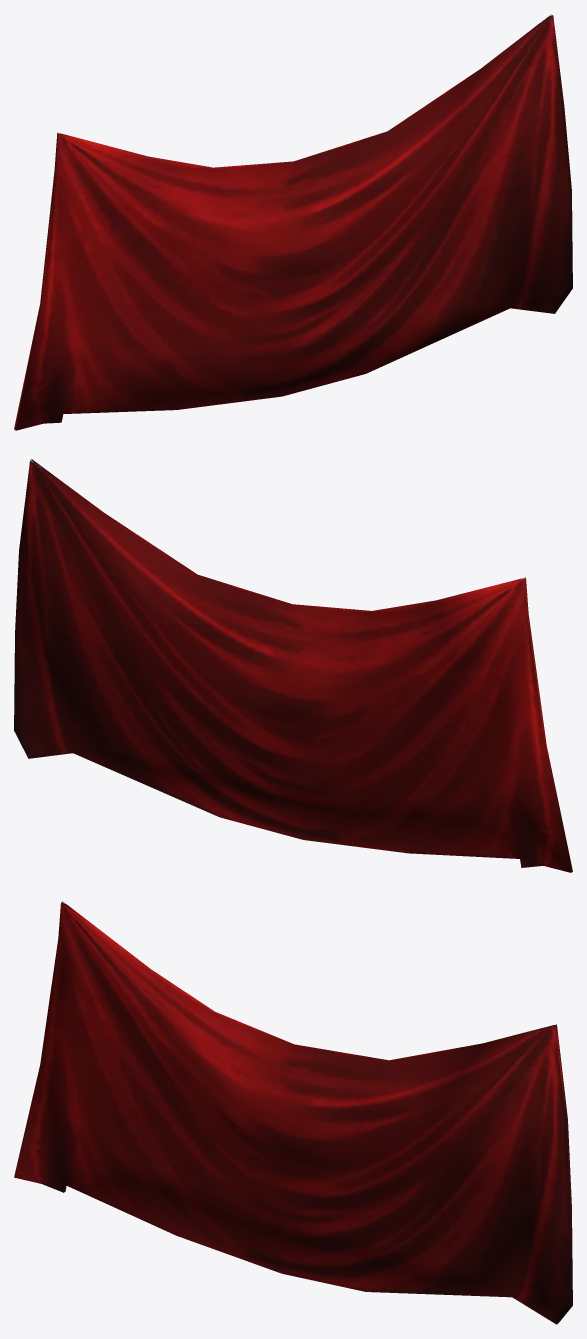
Rendered from GS_VOB_LITTLECURTAIN_02.glb.
3 views of the same model, one above another, from view 1: azimuth 30°, elevation 25°; view 2: azimuth 150°, elevation 25°; view 3: azimuth 330°, elevation 25° (orthographic).
Parts seen in each view (by area): view 1: Mesh; view 2: Mesh; view 3: Mesh.
Boxes of the visible parts, <box> form: Mesh: <box>14,14,572,430</box>; Mesh: <box>14,459,572,872</box>; Mesh: <box>14,901,572,1324</box>.
Size of the model in its own units: 1.38 by 0.7467 by 0.0324.
Materials: 1 (1 with a texture image).
